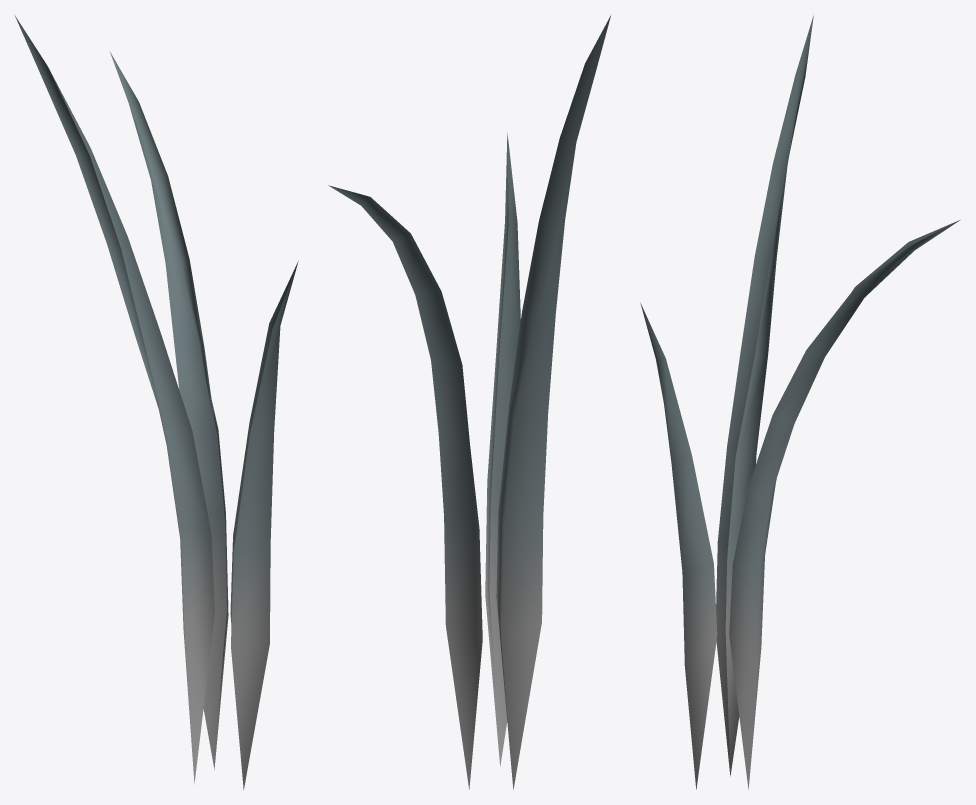
File: plants-grasses-reeds-grass-blades_v2.glb
3 renders of one model, left to right at view 1: azimuth 30°, elevation 25°; view 2: azimuth 150°, elevation 25°; view 3: azimuth 270°, elevation 25°, orthographic. The views are drawn at different scales.
Parts seen in each view (by area): view 1: Grass Blades_v2; view 2: Grass Blades_v2; view 3: Grass Blades_v2.
Part boxes in pixels (x1=…): Grass Blades_v2: x1=14, y1=15, x2=298, y2=790; Grass Blades_v2: x1=328, y1=15, x2=610, y2=789; Grass Blades_v2: x1=640, y1=14, x2=960, y2=789.
Bounding box in the file's own units: 0.103 × 0.4 × 0.1659.
